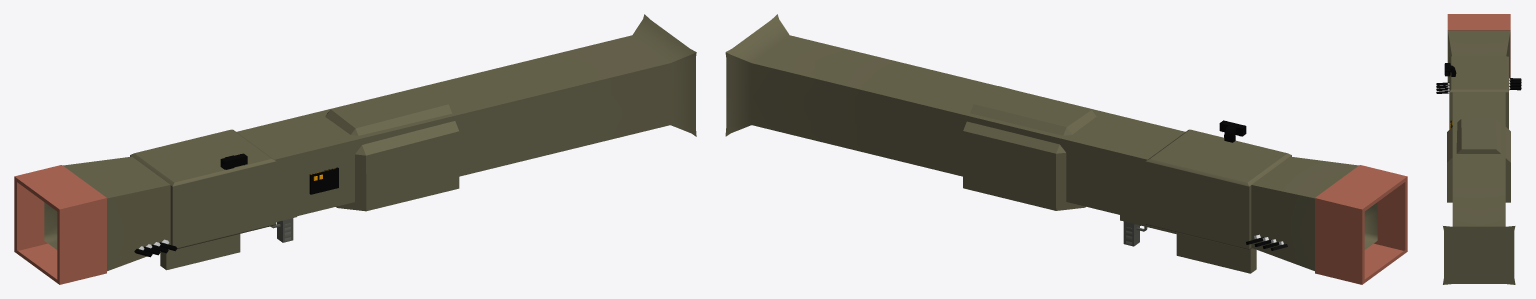
The model's file is rpg.glb.
3 views of the same model, side by side, from view 1: azimuth 30°, elevation 25°; view 2: azimuth 150°, elevation 25°; view 3: azimuth 270°, elevation 25° (orthographic). The views are drawn at different scales.
Parts seen in each view (by area): view 1: Node2, Node3, Node1, Node4, Node6, Node11; view 2: Node2, Node3, Node1, Node4, Node6; view 3: Node2, Node1, Node3, Node4, Node19, Node31, Node5.
Boxes of the visible parts, x1=… form: Node2: x1=44, y1=14, x2=696, y2=271; Node3: x1=130, y1=129, x2=276, y2=248; Node1: x1=325, y1=86, x2=459, y2=211; Node4: x1=14, y1=165, x2=106, y2=284; Node6: x1=160, y1=216, x2=297, y2=270; Node11: x1=309, y1=167, x2=338, y2=194; Node2: x1=725, y1=14, x2=1377, y2=270; Node3: x1=1145, y1=129, x2=1291, y2=249; Node1: x1=963, y1=86, x2=1096, y2=210; Node4: x1=1315, y1=165, x2=1407, y2=284; Node6: x1=1120, y1=215, x2=1256, y2=273; Node2: x1=1443, y1=30, x2=1515, y2=284; Node1: x1=1447, y1=118, x2=1510, y2=202; Node3: x1=1449, y1=56, x2=1508, y2=129; Node4: x1=1447, y1=14, x2=1510, y2=82; Node19: x1=1436, y1=82, x2=1449, y2=93; Node31: x1=1509, y1=80, x2=1521, y2=90; Node5: x1=1444, y1=63, x2=1450, y2=76.
Bounding box in the file's own units: 6.16 × 1.11 × 1.03.
Materials: 16 (1 with a texture image).
